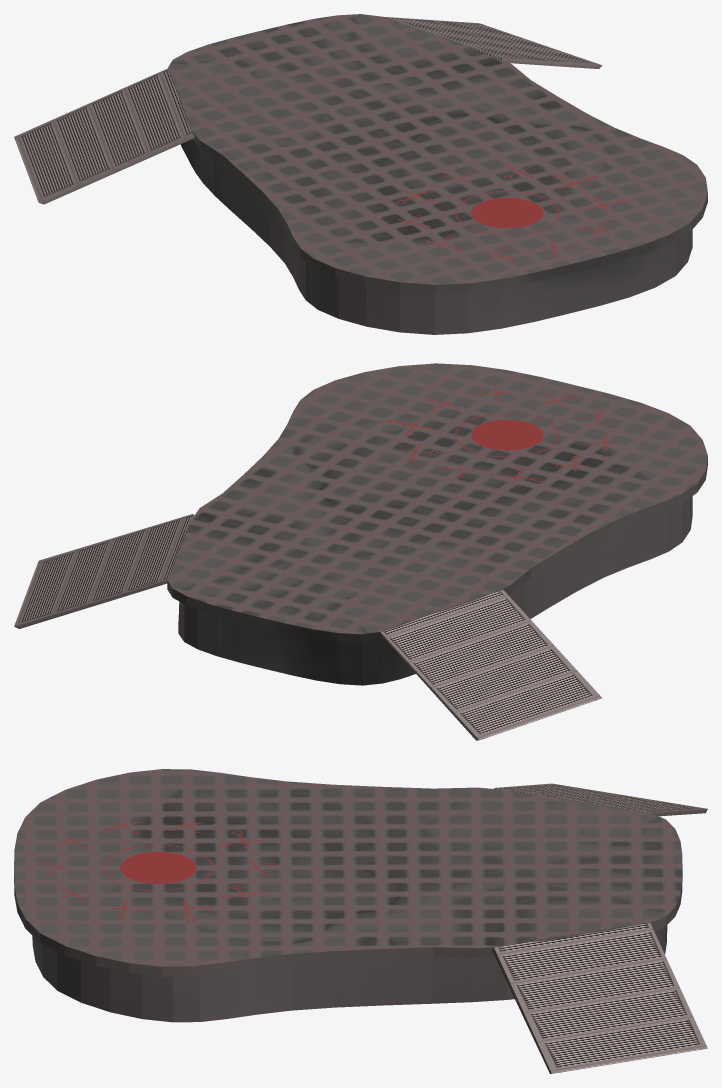
File: RoundPlatform.glb
3 renders of one model, top to bottom at view 1: azimuth 30°, elevation 25°; view 2: azimuth 150°, elevation 25°; view 3: azimuth 270°, elevation 25°, orthographic. The views are drawn at different scales.
Visible parts, largest first — view 1: Cube.014; view 2: Cube.014; view 3: Cube.014.
Boxes of the visible parts, box(x1,y1,x2,y2) form: Cube.014: box(14, 14, 707, 334); Cube.014: box(14, 363, 707, 740); Cube.014: box(14, 769, 707, 1073).
Bounding box in the file's own units: 20.56 × 2.08 × 20.76.
2 materials, 2 textured.
